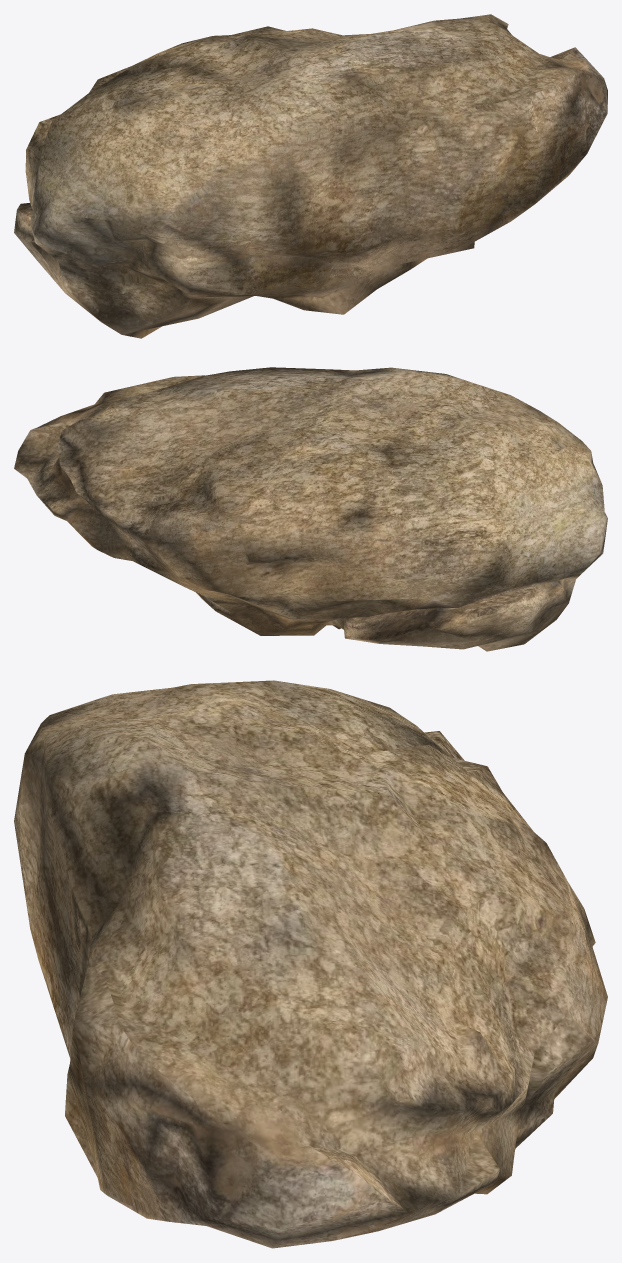
File: boulder.glb
The picture shows the model from 3 angles, top to bottom: view 1: azimuth 30°, elevation 25°; view 2: azimuth 150°, elevation 25°; view 3: azimuth 270°, elevation 25°; orthographic projection. The views are drawn at different scales.
Parts seen in each view (by area): view 1: namaqualand_boulder_05; view 2: namaqualand_boulder_05; view 3: namaqualand_boulder_05.
Boxes of the visible parts, <box> form: namaqualand_boulder_05: <box>14,14,607,338</box>; namaqualand_boulder_05: <box>14,367,607,651</box>; namaqualand_boulder_05: <box>14,680,607,1248</box>.
Bounding box in the file's own units: 1.36 × 0.5338 × 0.7462.
1 material, 1 textured.
